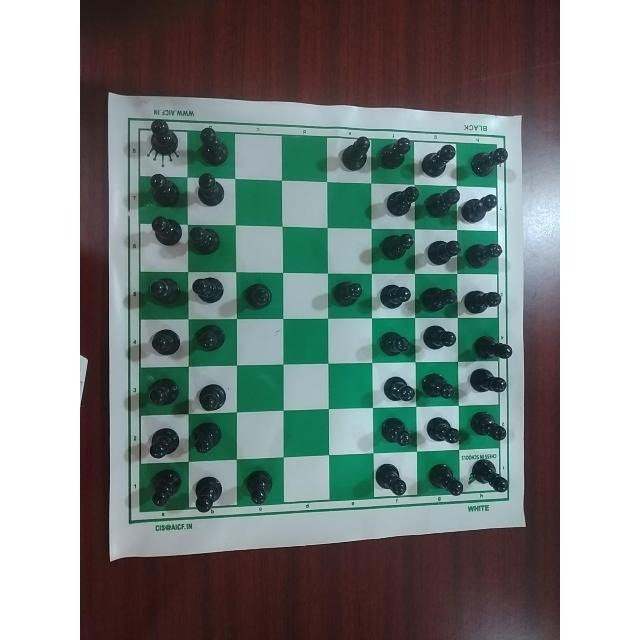black-pawn: (425, 457, 465, 498), (470, 456, 512, 494), (468, 407, 509, 445), (145, 470, 183, 510), (188, 273, 227, 311), (418, 139, 455, 179), (193, 124, 229, 164), (145, 117, 179, 159), (470, 331, 514, 363), (186, 224, 225, 260), (335, 133, 371, 171), (469, 142, 507, 178), (426, 412, 464, 448), (144, 172, 181, 208), (462, 283, 502, 316), (421, 369, 459, 403), (192, 473, 225, 512), (384, 183, 420, 218), (143, 372, 178, 408), (378, 373, 415, 407), (378, 135, 411, 173), (143, 273, 181, 306), (425, 235, 461, 269), (421, 280, 457, 314), (190, 418, 223, 455), (465, 366, 507, 395), (193, 381, 231, 413), (241, 469, 273, 507), (418, 322, 458, 352), (462, 189, 496, 224), (147, 214, 182, 248), (147, 425, 180, 461), (465, 241, 505, 270), (192, 172, 226, 206), (374, 461, 408, 495), (329, 278, 365, 310), (380, 414, 412, 450), (378, 231, 413, 263), (146, 327, 181, 359), (376, 328, 412, 359), (375, 282, 414, 310), (426, 186, 460, 218), (192, 324, 226, 354), (241, 279, 273, 310)
